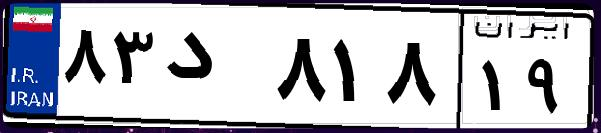1: (330, 28, 385, 110), (475, 38, 525, 113)
3: (110, 28, 158, 98)
8: (270, 28, 330, 110), (385, 28, 445, 110), (57, 26, 110, 100)
9: (525, 38, 570, 115)
د: (158, 20, 270, 120)
